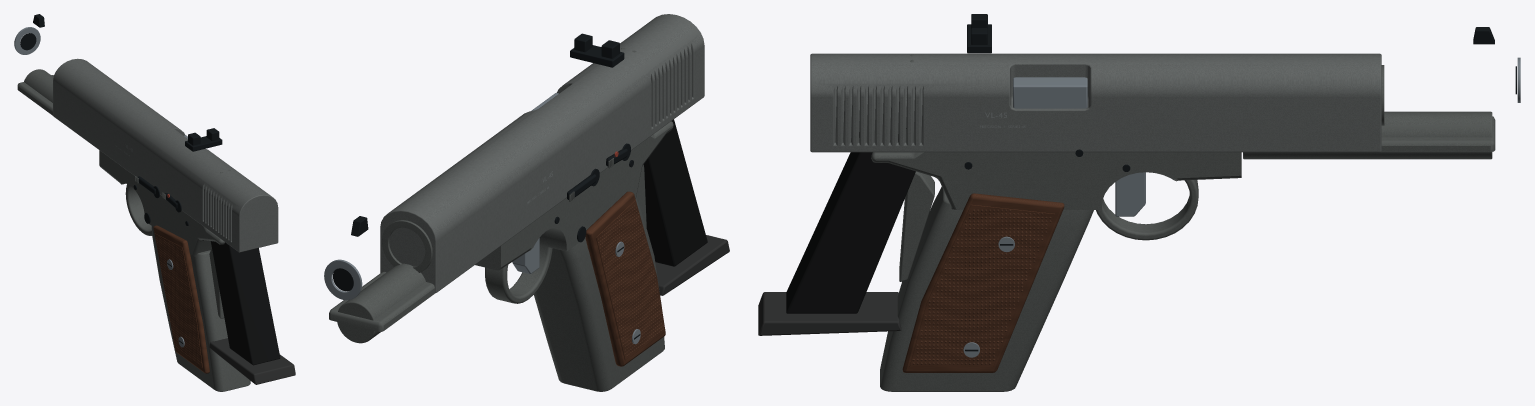
The model's file is weapon-68-Buh0NFnb.glb.
3 renders of one model, left to right at view 1: azimuth 30°, elevation 25°; view 2: azimuth 150°, elevation 25°; view 3: azimuth 270°, elevation 25°, orthographic. The views are drawn at different scales.
Visible parts, largest first — view 1: salient_weapon_bolt, salient_weapon_body, salient_weapon_magazine, salient_weapon_iron; view 2: salient_weapon_bolt, salient_weapon_body, salient_weapon_magazine, salient_weapon_iron; view 3: salient_weapon_bolt, salient_weapon_body, salient_weapon_magazine, salient_weapon_iron.
Part boxes in pixels (x1,y1,x2,y2): salient_weapon_bolt: [53, 58, 278, 252]; salient_weapon_body: [14, 27, 250, 391]; salient_weapon_magazine: [209, 241, 295, 384]; salient_weapon_iron: [33, 14, 222, 151]; salient_weapon_bolt: [380, 14, 704, 292]; salient_weapon_body: [324, 48, 673, 391]; salient_weapon_magazine: [643, 119, 729, 295]; salient_weapon_iron: [351, 33, 624, 236]; salient_weapon_bolt: [810, 53, 1384, 152]; salient_weapon_body: [871, 54, 1520, 391]; salient_weapon_magazine: [758, 152, 915, 335]; salient_weapon_iron: [967, 14, 1494, 53].
Size of the model in its own units: 0.0323 by 0.1416 by 0.2749.
13 materials, 5 textured.
